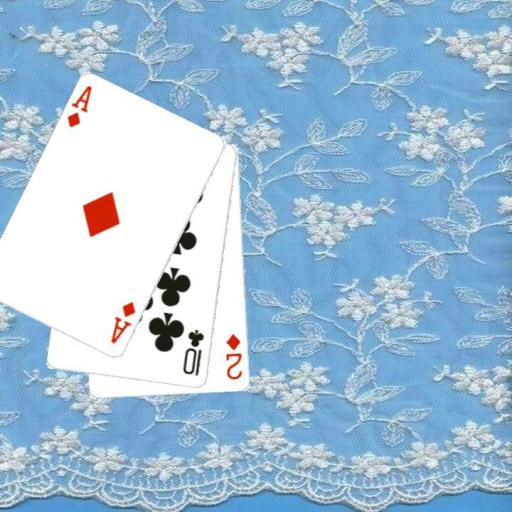10C: (180, 327, 206, 378)
2D: (223, 331, 244, 382)
AD: (108, 299, 138, 346), (64, 83, 94, 130)
